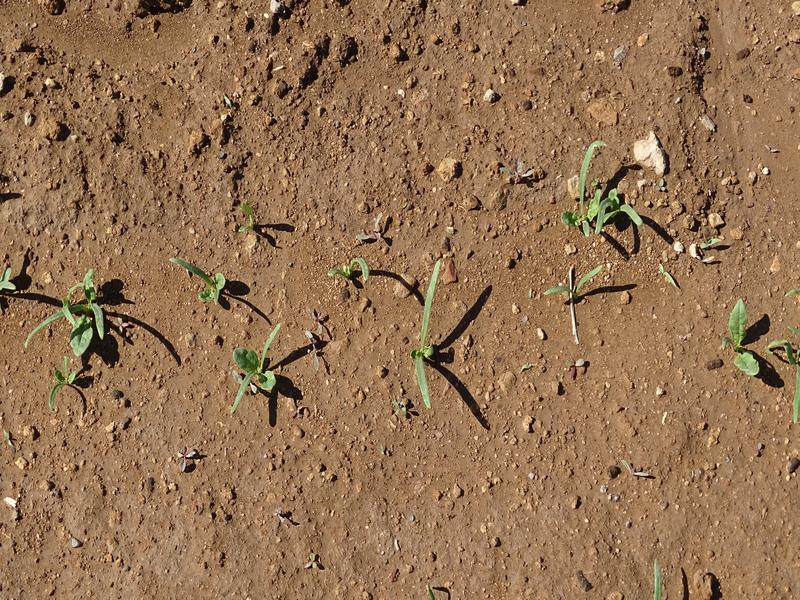Espinaca: (33, 277, 111, 373), (570, 146, 652, 232), (412, 263, 450, 406), (178, 254, 247, 318), (233, 334, 288, 406), (721, 299, 767, 375), (545, 259, 600, 299)
